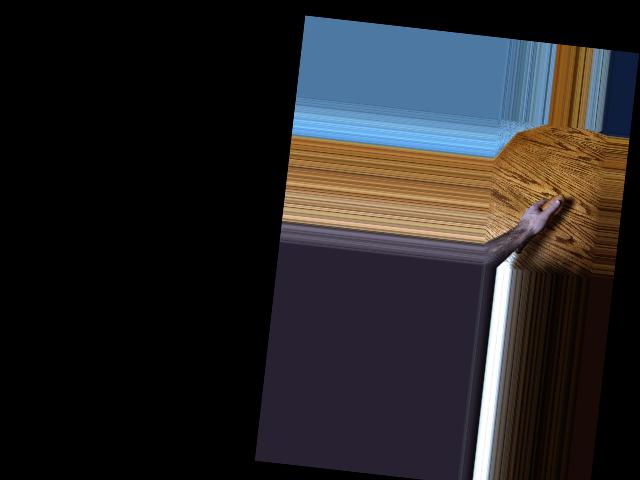sweet_potato: (515, 188, 567, 259)
